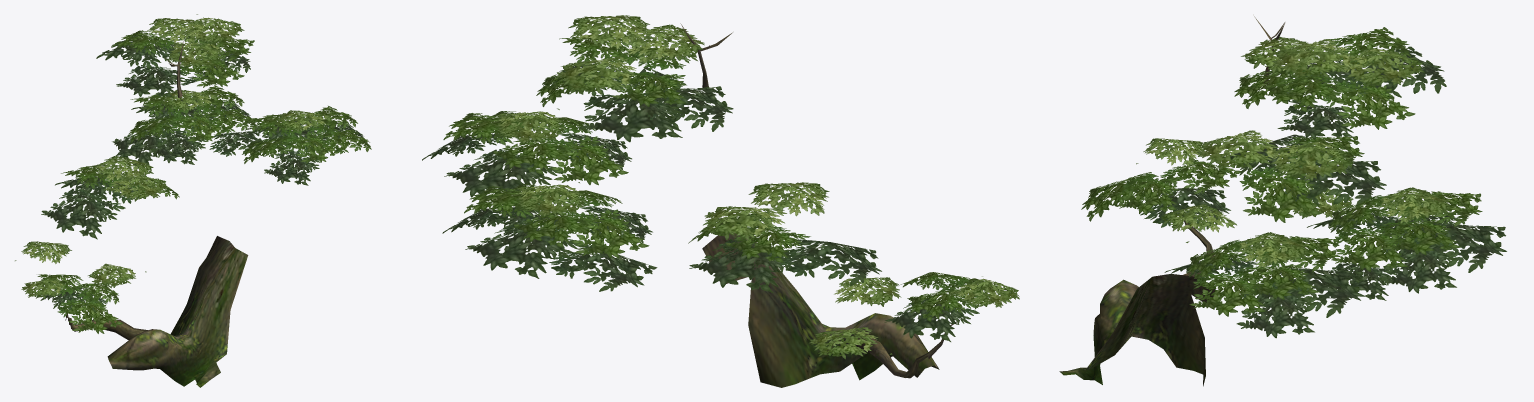
Rendered from S_Tree_Green146_A1.FBX.
3 views of the same model, side by side, from view 1: azimuth 30°, elevation 25°; view 2: azimuth 150°, elevation 25°; view 3: azimuth 270°, elevation 25° (orthographic). The views are drawn at different scales.
Visible parts, largest first — view 1: S_Tree_Green146_A1_2, S_Tree_Green146_A1_1; view 2: S_Tree_Green146_A1_2, S_Tree_Green146_A1_1; view 3: S_Tree_Green146_A1_2, S_Tree_Green146_A1_1.
Boxes of the visible parts, x1,y1,x2,y2 form: S_Tree_Green146_A1_2: (15,14,371,333); S_Tree_Green146_A1_1: (65,41,248,387); S_Tree_Green146_A1_2: (422,15,1019,359); S_Tree_Green146_A1_1: (680,23,960,387); S_Tree_Green146_A1_2: (1081,27,1506,338); S_Tree_Green146_A1_1: (1059,16,1285,386).
Size of the model in its own units: 371 by 267 by 273.
